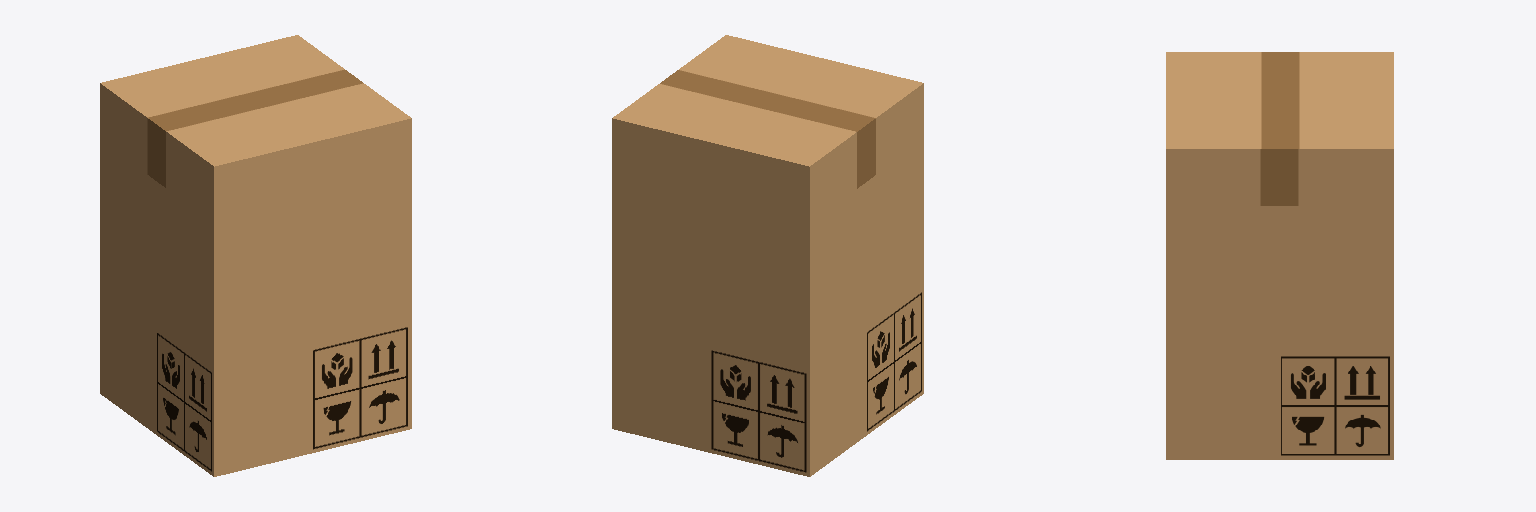
3 views of the same model, side by side, from view 1: azimuth 30°, elevation 25°; view 2: azimuth 150°, elevation 25°; view 3: azimuth 270°, elevation 25° (orthographic).
Visible parts, largest first — view 1: BoxesOBJ; view 2: BoxesOBJ; view 3: BoxesOBJ.
Boxes of the visible parts, box(x1,y1,x2,y2) form: BoxesOBJ: box(100, 35, 411, 476); BoxesOBJ: box(612, 35, 923, 476); BoxesOBJ: box(1166, 52, 1393, 459).
Bounding box in the file's own units: 2 × 3 × 2.
Materials: 1 (1 with a texture image).